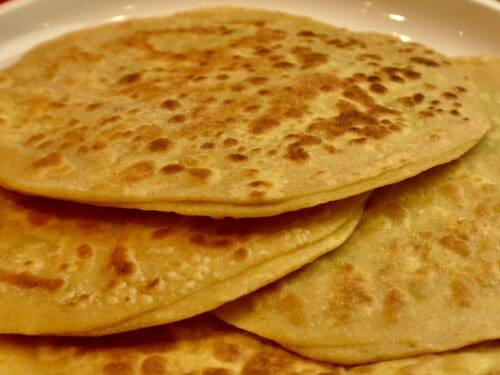paratha: (6, 22, 493, 191), (252, 48, 496, 349), (0, 192, 359, 343)
